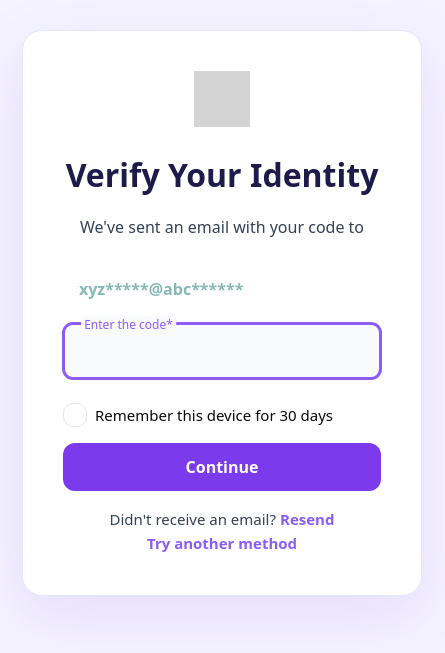
Test: MFAEmailChallengeInstance › validates code input is required before submission
Step 1. Click the button "Continue" → (222, 467), box [63,443,381,491]
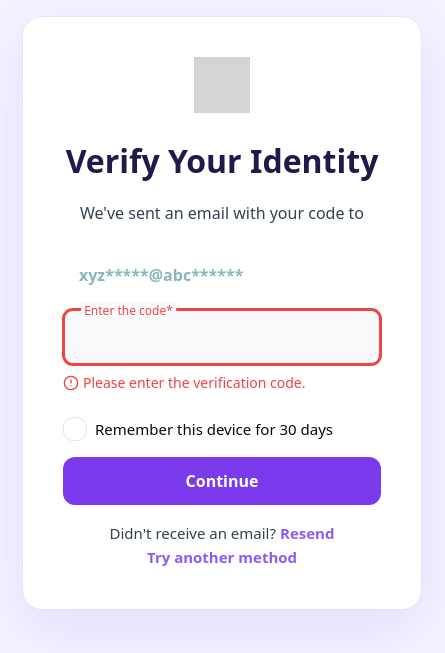
Expected: the text "Please enter the verification code." is shown, [83,373,306,393]
